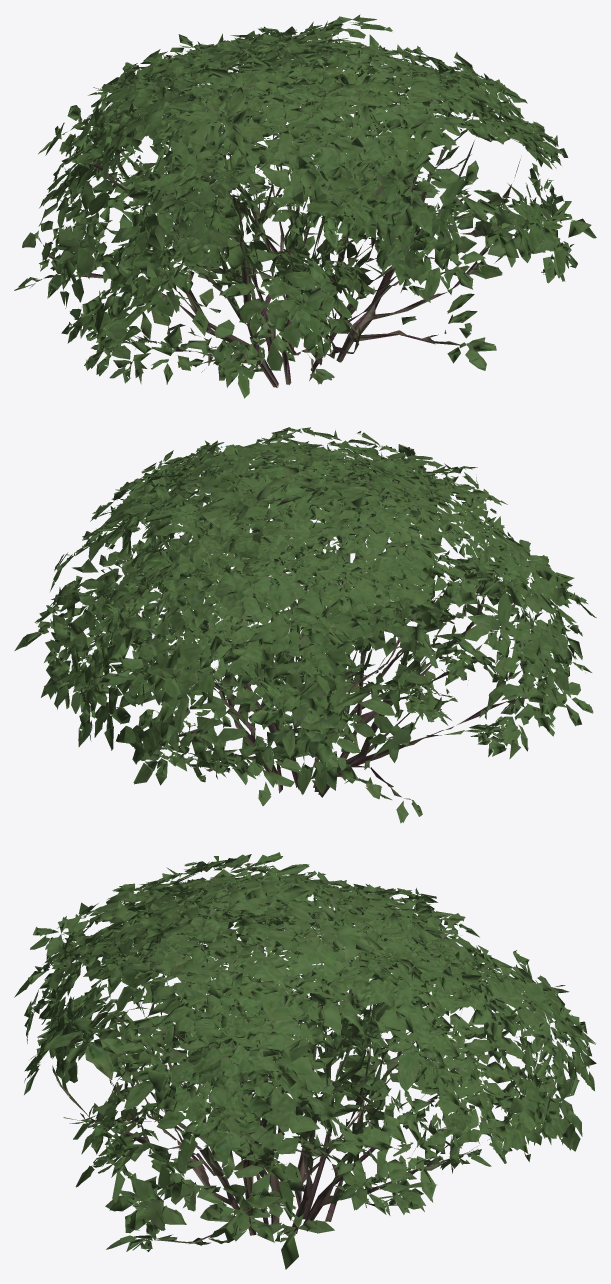
Rendered from bush-berries-b-empty.glb.
The picture shows the model from 3 angles, top to bottom: view 1: azimuth 30°, elevation 25°; view 2: azimuth 150°, elevation 25°; view 3: azimuth 270°, elevation 25°; orthographic projection. The views are drawn at different scales.
Parts seen in each view (by area): view 1: bush_berries_b; view 2: bush_berries_b; view 3: bush_berries_b.
Boxes of the visible parts, <box> form: bush_berries_b: <box>14,14,596,398</box>; bush_berries_b: <box>14,427,596,823</box>; bush_berries_b: <box>14,852,596,1269</box>.
Bounding box in the file's own units: 2.93 × 1.8 × 2.75.
Materials: 1 (1 with a texture image).
